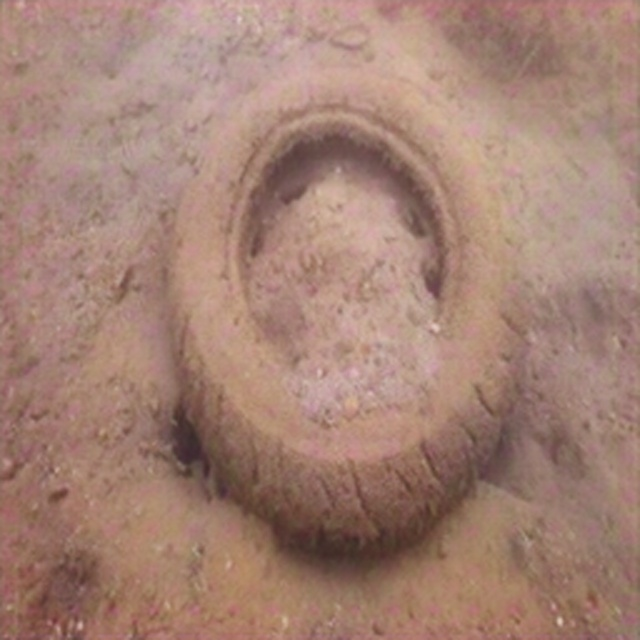mine: (166, 59, 526, 558)
